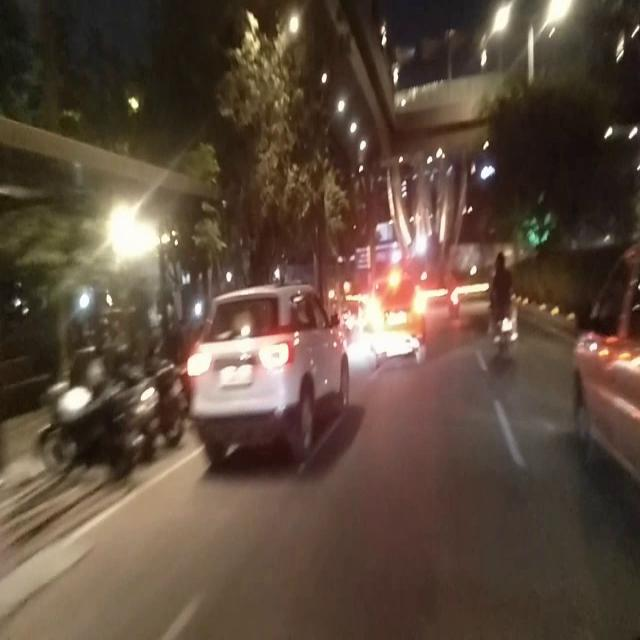car: (192, 283, 352, 462), (571, 252, 640, 478)
motorcycle: (39, 342, 190, 476)
road: (94, 349, 640, 580), (0, 581, 640, 640)
sidewalk: (0, 470, 93, 581)
